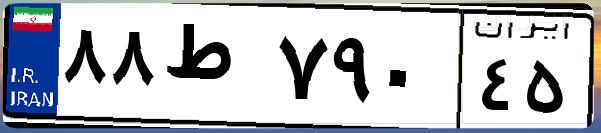0: (385, 28, 445, 110)
4: (475, 38, 525, 113)
5: (525, 38, 570, 115)
7: (270, 28, 330, 110)
8: (57, 26, 110, 100), (110, 28, 158, 98)
9: (330, 28, 385, 110)
ط: (158, 20, 270, 120)
